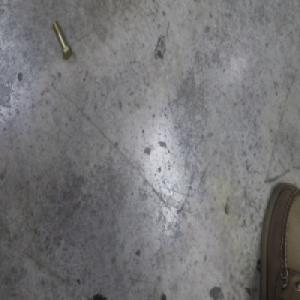Bolt: (51, 20, 72, 61)
